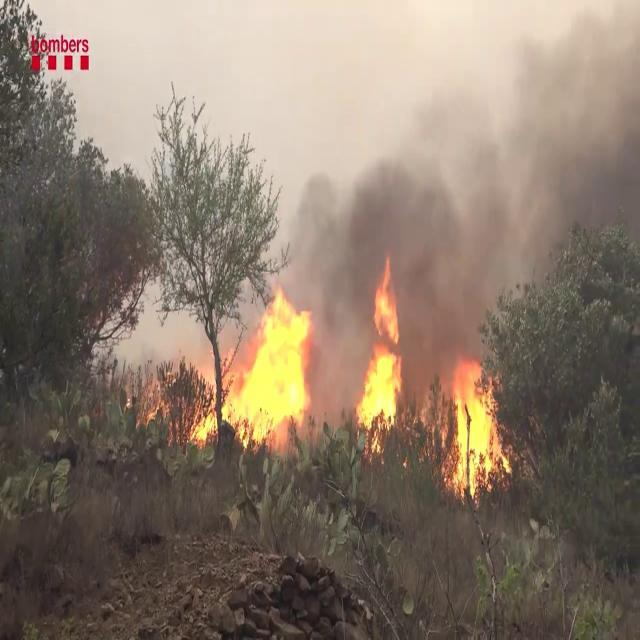Fire: (185, 283, 318, 452), (354, 265, 406, 451), (444, 356, 511, 496)
Smoke: (290, 1, 638, 352)
